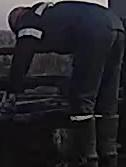gloves: (0, 84, 20, 112)
helmet: (8, 6, 28, 35)
vest: (20, 0, 125, 56)
